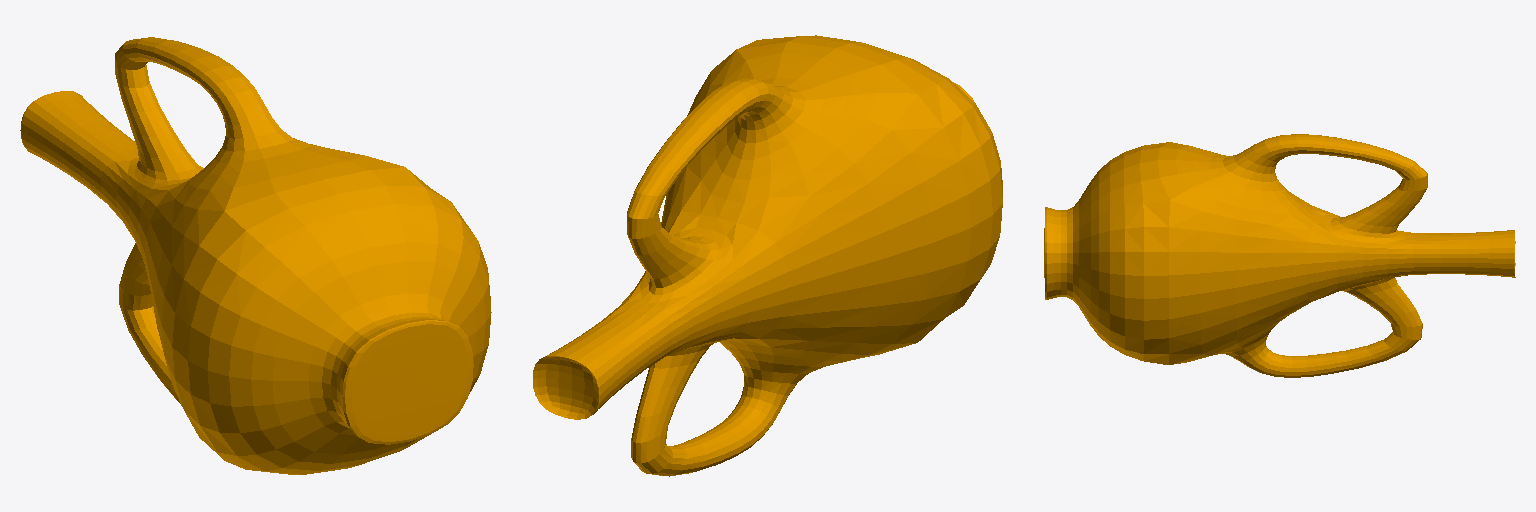
The robot description file, URDF, robot "218":
<?xml version="1.0" ?>
<robot name="218">
  <link name="body">
    <visual>
      <geometry>
        <mesh filename="../shapes/218.obj"/>
      </geometry>
    </visual>
    <collision>
      <geometry>
        <mesh filename="../shapes/218.obj"/>
      </geometry>
    </collision>
  </link>
</robot>

--- Facts derived from the render (not from the file) ---
Views: 3 orthographic renders of the robot side by side, from view 1: azimuth 30°, elevation 25°; view 2: azimuth 150°, elevation 25°; view 3: azimuth 270°, elevation 25°.
Robot: 218 — 1 links, 0 joints (none); root link body; default pose: every joint at zero.
Links seen in each view (by area): view 1: body; view 2: body; view 3: body.
Link boxes in pixels (x1,y1,x2,y2): body: [20, 37, 491, 474]; body: [533, 35, 1002, 476]; body: [1044, 134, 1515, 377].
Bounding box of the posed robot: 7.7 × 16.2 × 9.07 m (x, y, z).
1 mesh visuals loaded from 1 distinct referenced files (1 OBJ).